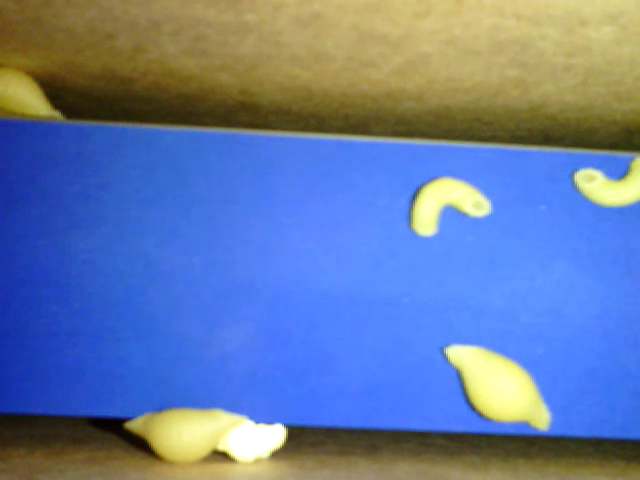elbow: (410, 175, 492, 239), (574, 156, 638, 209)
shell: (442, 340, 556, 433), (122, 410, 251, 462), (1, 66, 69, 124)
